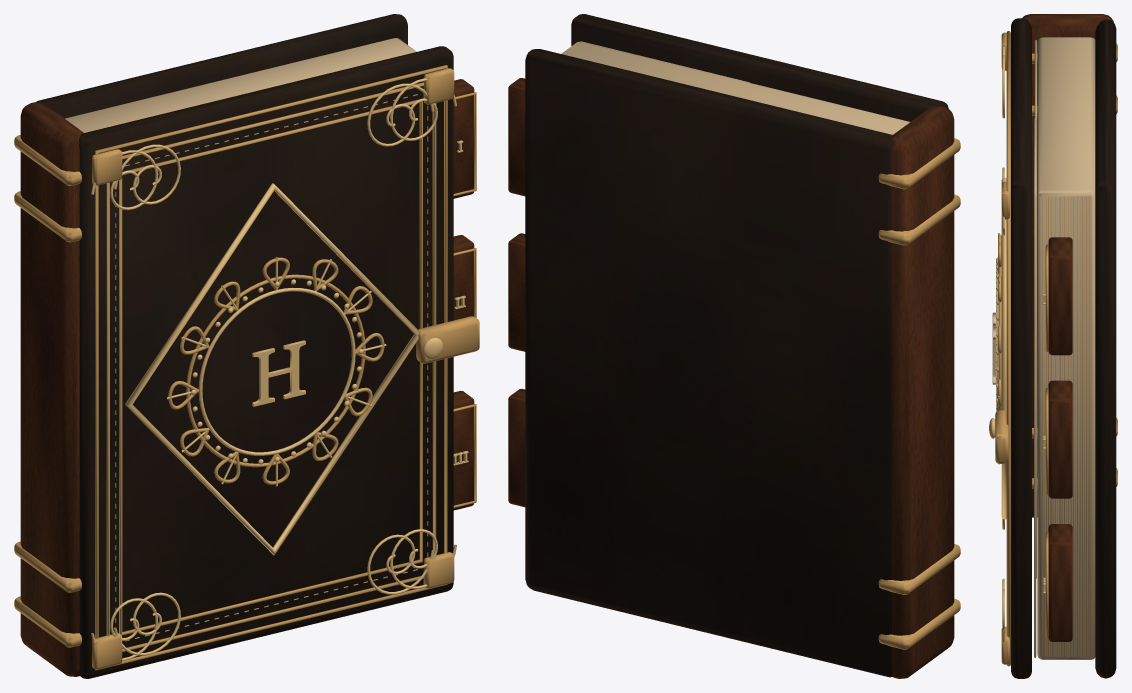
The model's file is spellbook.glb.
3 views of the same model, side by side, from view 1: azimuth 30°, elevation 25°; view 2: azimuth 150°, elevation 25°; view 3: azimuth 270°, elevation 25° (orthographic). The views are drawn at different scales.
Visible parts, largest first — view 1: leather_cover, spine, front_cover_Antique brass, front_cover_Gold edges, back_cover, page_block, book_root_Antique brass, character_tab_leather, journey_tab_leather, clasp_arm, quests_tab_leather, H_crest (+1 smaller); view 2: back_cover, spine, leather_cover, page_block, book_root_Antique brass, quests_tab_leather, journey_tab_leather, character_tab_leather; view 3: page_block, back_cover, leather_cover, book_root_Linen, front_cover_Antique brass, spine, character_tab_leather, quests_tab_leather, journey_tab_leather, front_cover_Gold edges, right_pages, clasp_arm (+6 smaller).
Part boxes in pixels (<box>): leather_cover: <box>79,46,453,678</box>; spine: <box>20,102,83,676</box>; front_cover_Antique brass: <box>92,65,454,670</box>; front_cover_Gold edges: <box>91,78,456,660</box>; back_cover: <box>35,14,407,118</box>; page_block: <box>65,38,416,132</box>; book_root_Antique brass: <box>14,135,81,647</box>; character_tab_leather: <box>453,79,474,198</box>; journey_tab_leather: <box>453,391,474,510</box>; clasp_arm: <box>416,316,479,363</box>; quests_tab_leather: <box>453,235,474,320</box>; H_crest: <box>252,340,305,406</box>; back_cover: <box>525,49,893,677</box>; spine: <box>892,105,954,678</box>; leather_cover: <box>571,14,948,121</box>; page_block: <box>561,41,909,134</box>; book_root_Antique brass: <box>878,138,960,649</box>; quests_tab_leather: <box>508,233,525,351</box>; journey_tab_leather: <box>508,389,525,507</box>; character_tab_leather: <box>508,78,525,196</box>; page_block: <box>1037,37,1095,659</box>; back_cover: <box>1095,19,1116,678</box>; leather_cover: <box>1011,18,1031,678</box>; book_root_Linen: <box>1041,197,1090,657</box>; front_cover_Antique brass: <box>998,31,1010,666</box>; spine: <box>1022,14,1113,517</box>; character_tab_leather: <box>1048,237,1072,355</box>; quests_tab_leather: <box>1048,380,1072,498</box>; journey_tab_leather: <box>1048,524,1072,641</box>; front_cover_Gold edges: <box>996,46,1006,641</box>; right_pages: <box>1034,118,1036,657</box>; clasp_arm: <box>995,410,1008,463</box>.
Size of the model in its own units: 3 by 3.66 by 0.856.
Materials: 6 (2 with a texture image).
